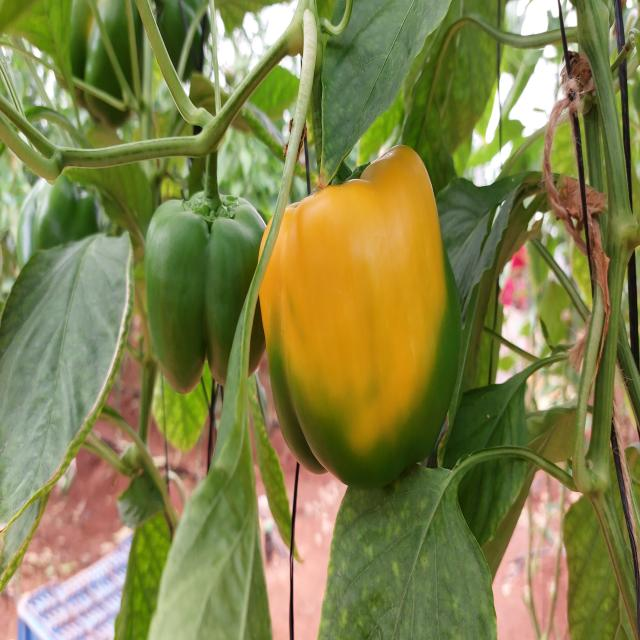Yellow-Ready-to-Harvest: (258, 140, 447, 447)
